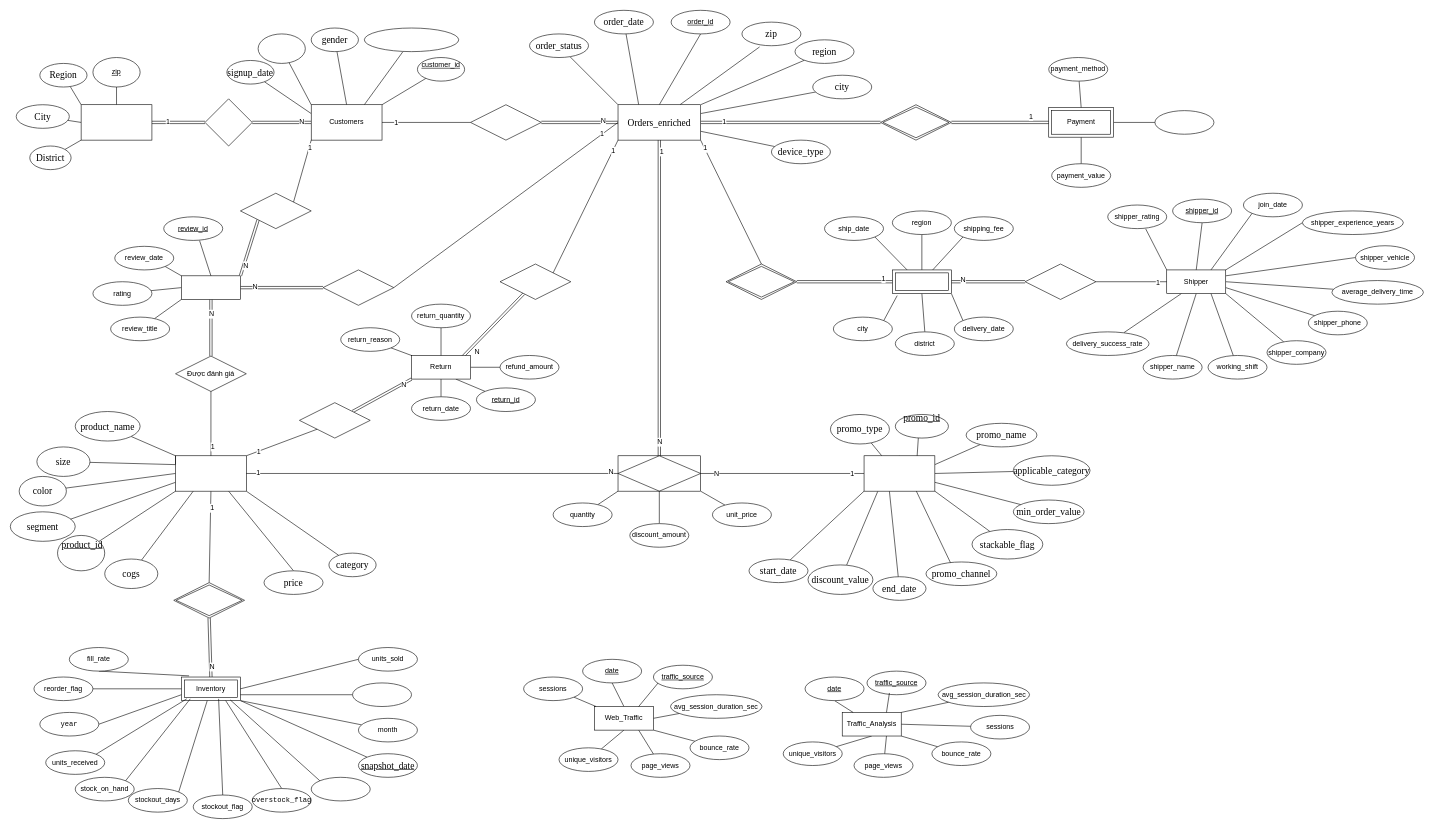
The diagram is 1434 pixels wide and 829 high, and some of its shapes have lost their labels. The centre of each missing label's shape, as x and y in pixels:
"acquisition_channel" belongs at (x=411, y=39).
"age_group" belongs at (x=281, y=48).
"có tồn kho" belongs at (x=209, y=600).
"days_of_supply" belongs at (x=382, y=694).
"Geography" belongs at (x=116, y=122).
"Giao" belongs at (x=1060, y=281).
"installments" belongs at (x=1184, y=122).
"Order_items" belongs at (x=659, y=473).
"Product" belongs at (x=210, y=473).
"Promotion" belongs at (x=899, y=473).
"Review" belongs at (x=210, y=287).
"sell_through_rate" belongs at (x=340, y=789).
"Shipment" belongs at (x=921, y=281).
"thanh toán" belongs at (x=915, y=122).
"thuộc" belongs at (x=228, y=122).
"trả hàng" belongs at (x=535, y=281).
"Trả sản phẩm" belongs at (x=334, y=420).
"Viết đánh giá" belongs at (x=275, y=211).
"Vận chuyển" belongs at (x=761, y=281).
"Đánh giá đơn" belongs at (x=358, y=287).
"Đặt hàng" belongs at (x=505, y=122).
